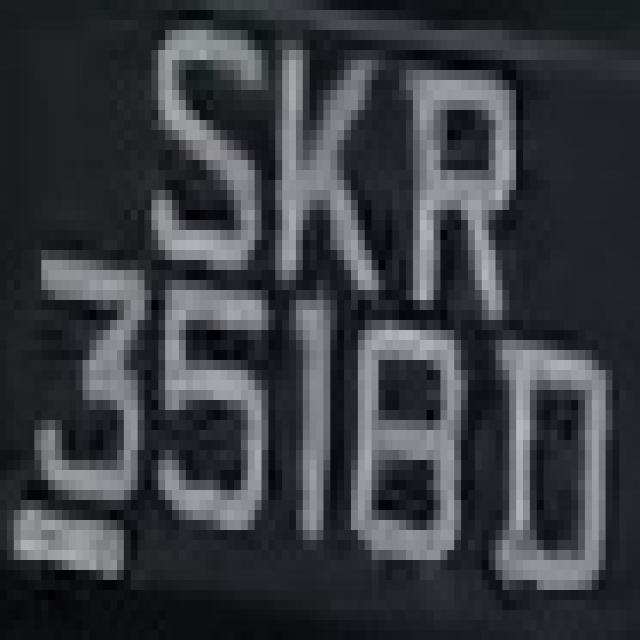1: (261, 280, 351, 580)
3: (28, 230, 158, 530)
5: (158, 250, 276, 540)
8: (337, 270, 475, 590)
D: (496, 280, 606, 610)
K: (268, 30, 378, 320)
R: (399, 40, 516, 290)
S: (144, 0, 262, 300)
